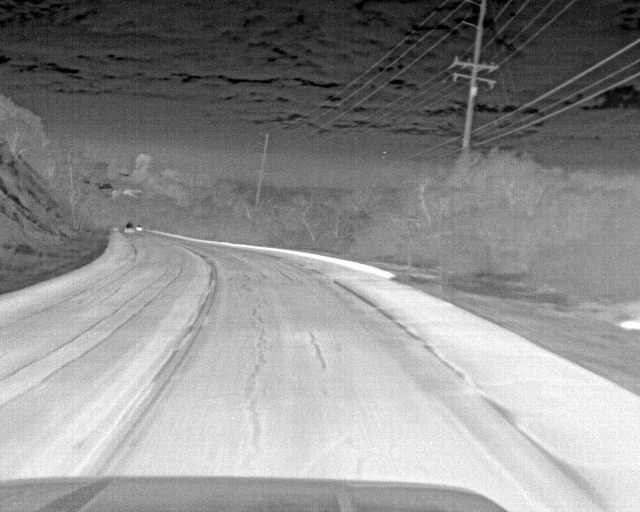car: (119, 217, 144, 236)
